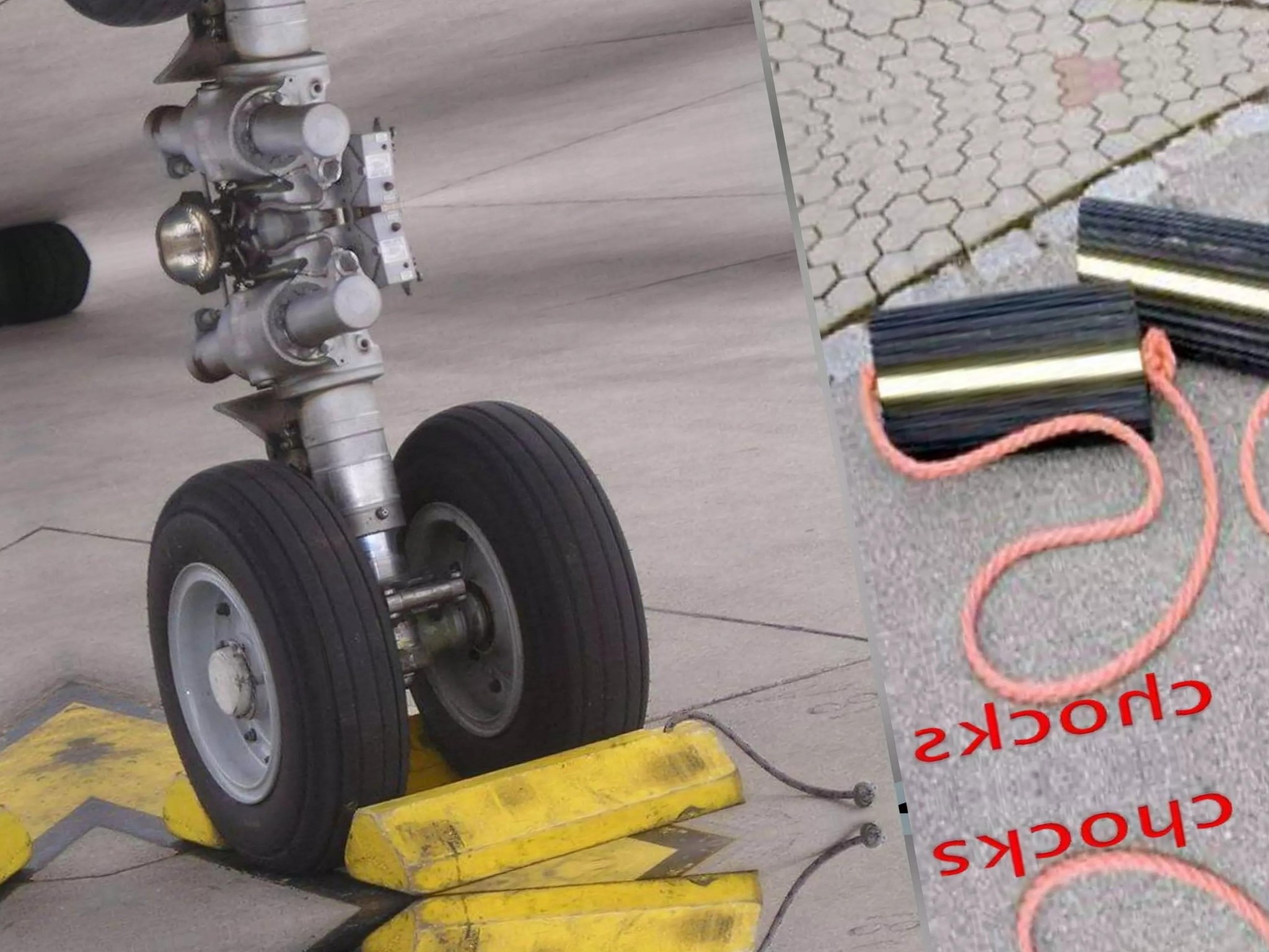chock: (322, 700, 756, 902), (844, 264, 1165, 490), (1057, 153, 1269, 414), (348, 844, 782, 952)
wheel: (121, 441, 433, 896), (364, 378, 671, 789), (0, 261, 102, 324), (0, 215, 93, 278)
